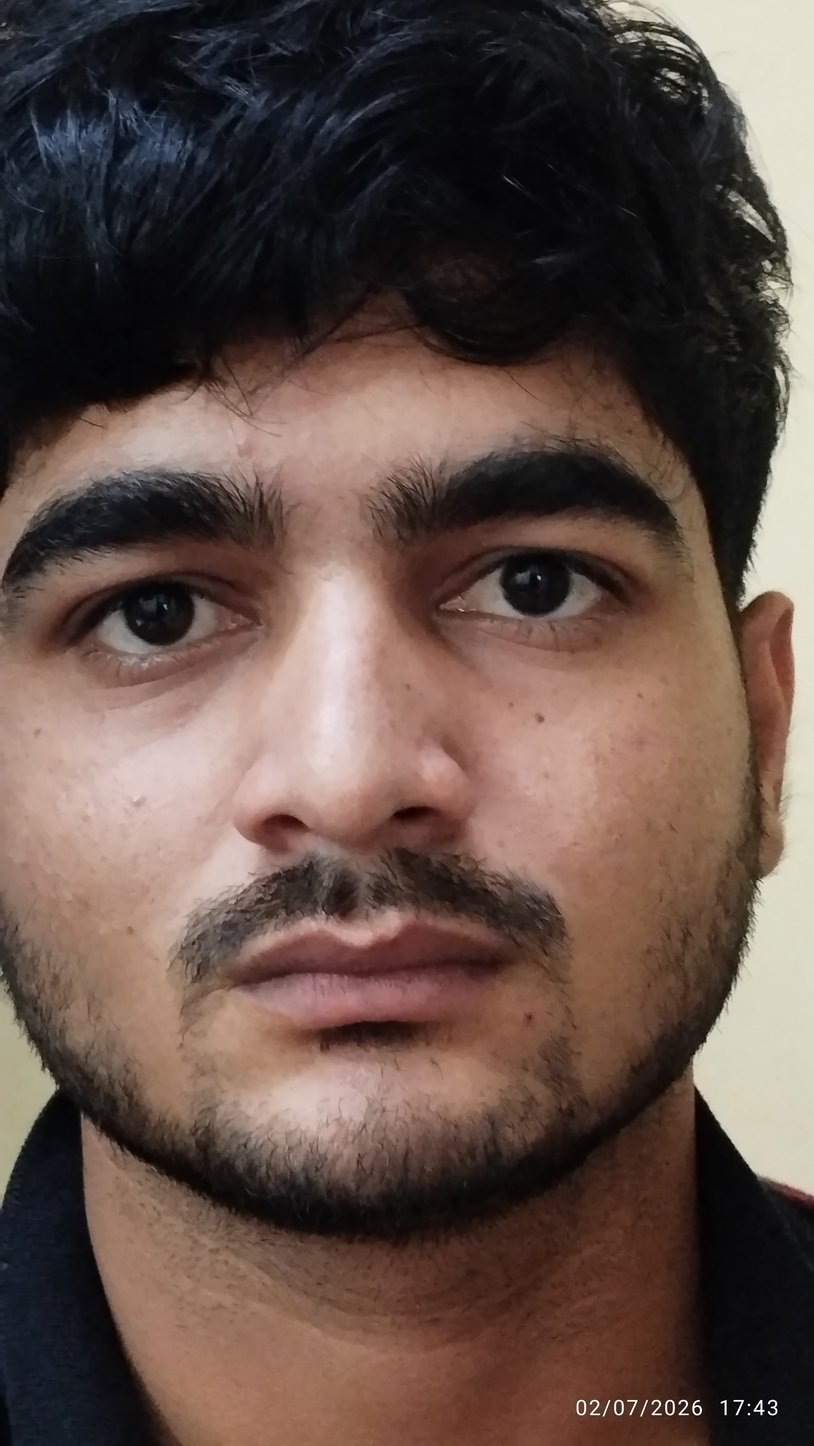papule: (99, 781, 180, 820), (202, 413, 261, 466)
